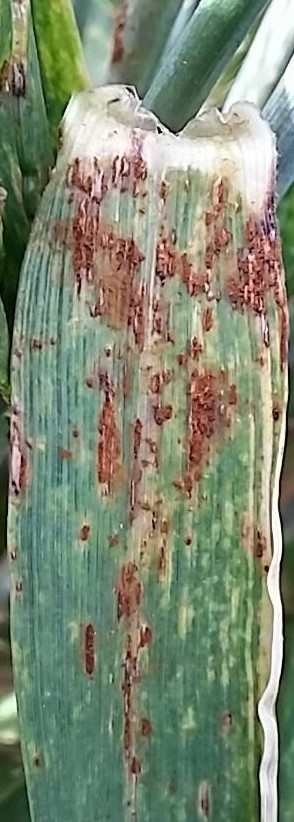Leaf Rust: (52, 152, 290, 724)
